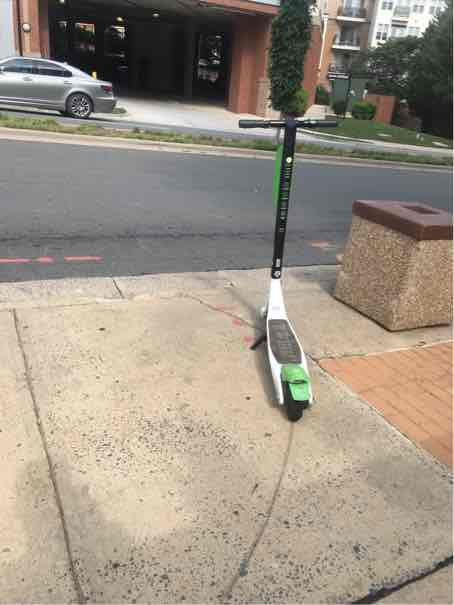scooter: (228, 116, 338, 427)
